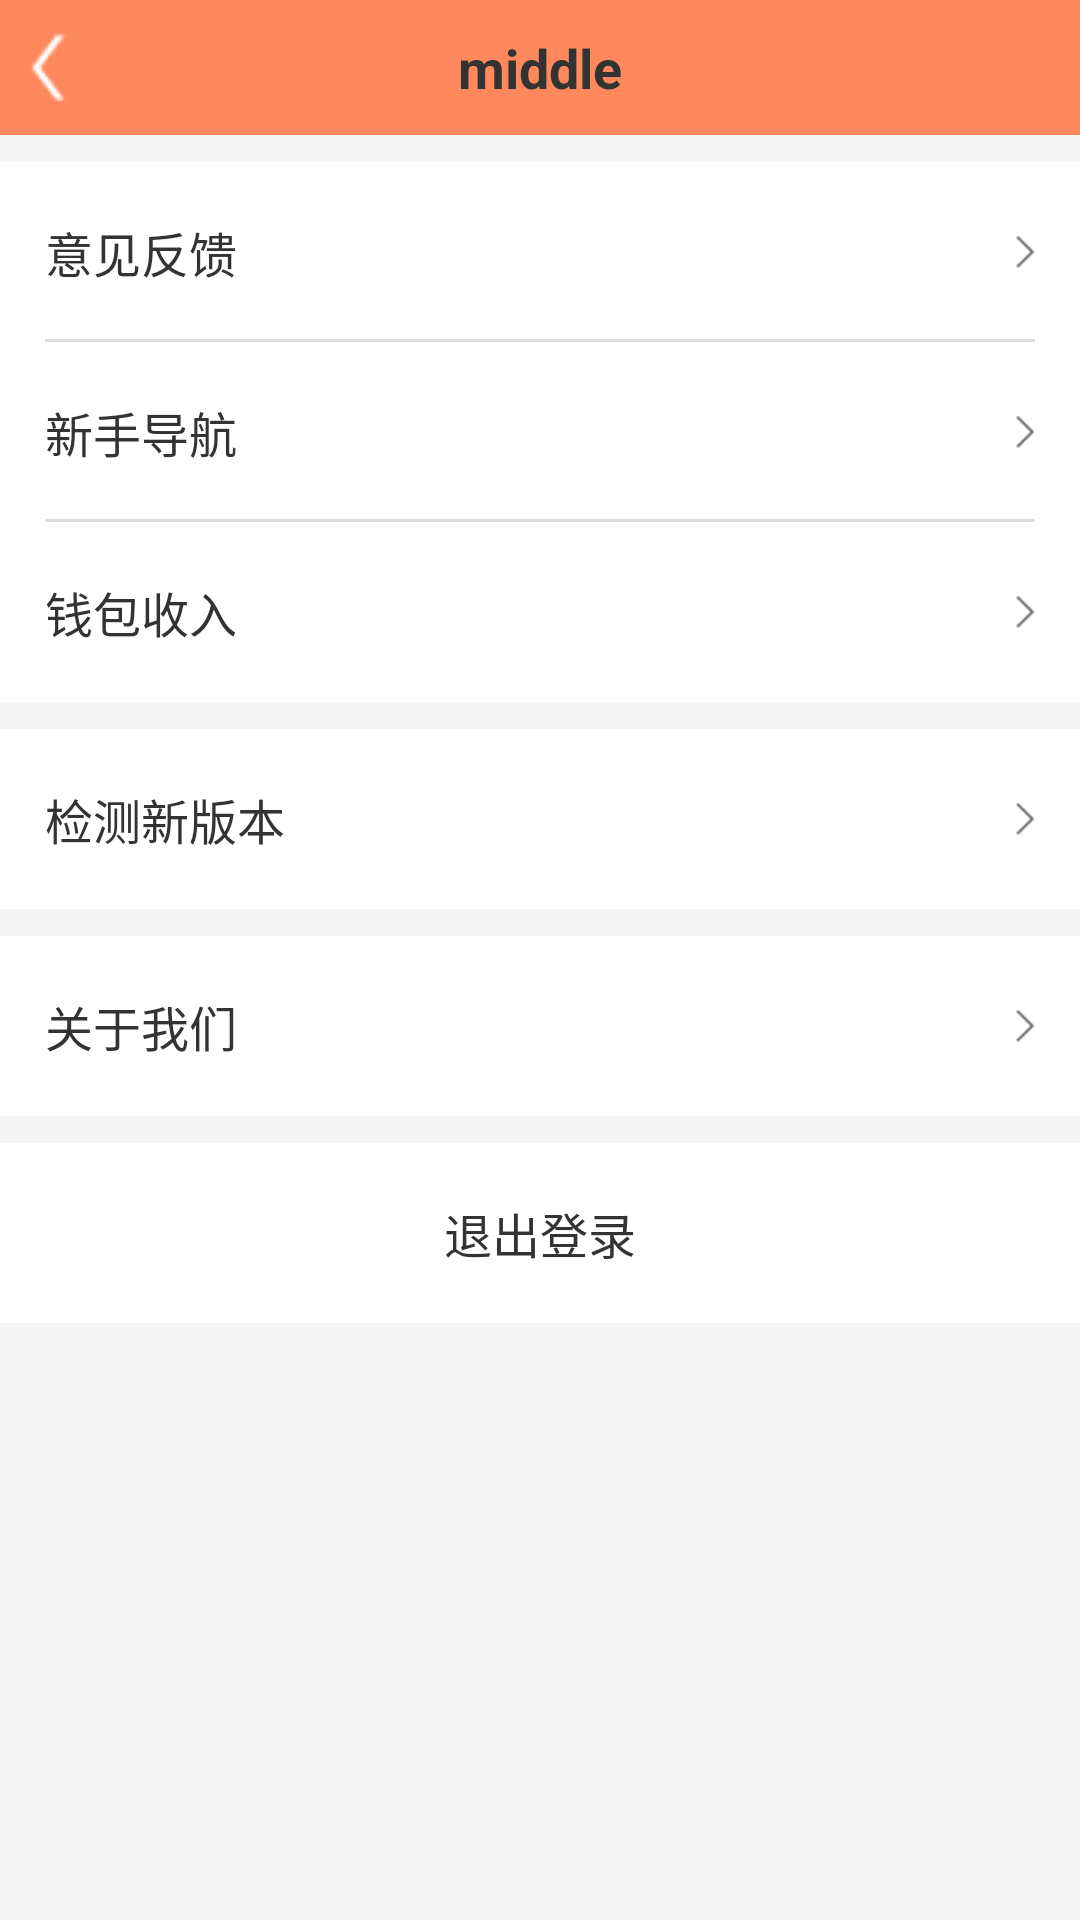

Icons on this 1080×1920 Android screen, each with the point to tap as point (x, y):
back: point (48, 67)
